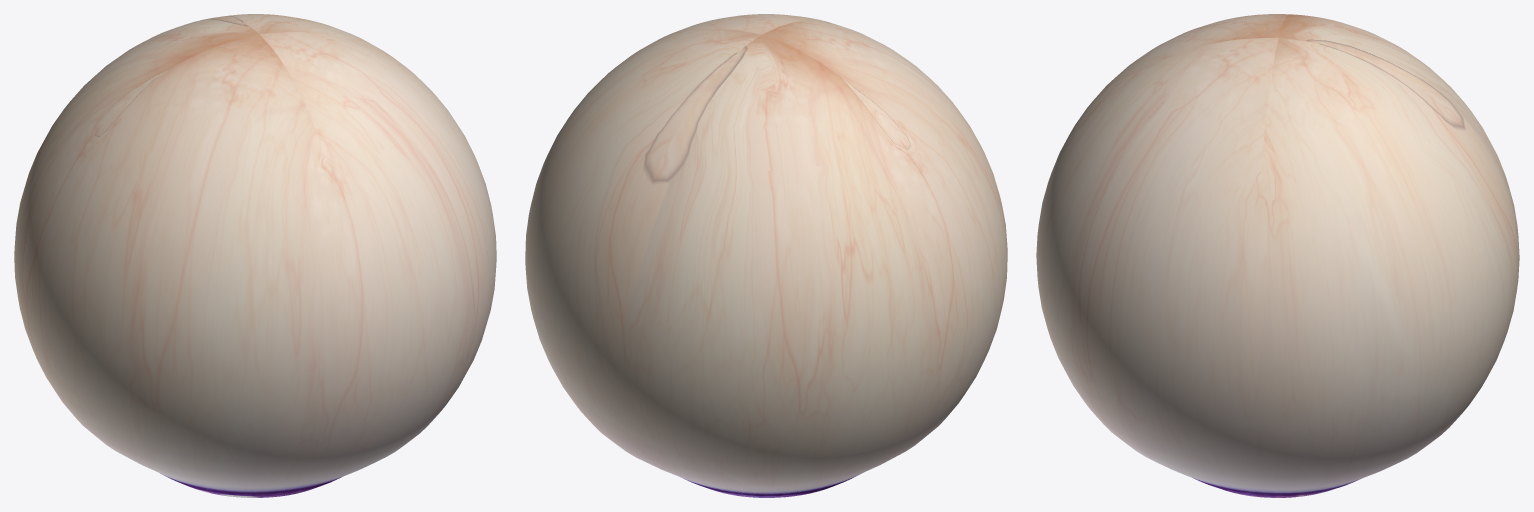
File: Eyeball.obj
3 renders of one model, left to right at view 1: azimuth 30°, elevation 25°; view 2: azimuth 150°, elevation 25°; view 3: azimuth 270°, elevation 25°, orthographic.
Parts seen in each view (by area): view 1: Eyeball; view 2: Eyeball; view 3: Eyeball.
Boxes of the visible parts, bbox=[...] form: Eyeball: bbox=[14, 14, 496, 497]; Eyeball: bbox=[525, 14, 1007, 497]; Eyeball: bbox=[1036, 14, 1519, 497].
Size of the model in its own units: 0.9892 by 0.9996 by 0.9895.
1 material, 1 textured.
